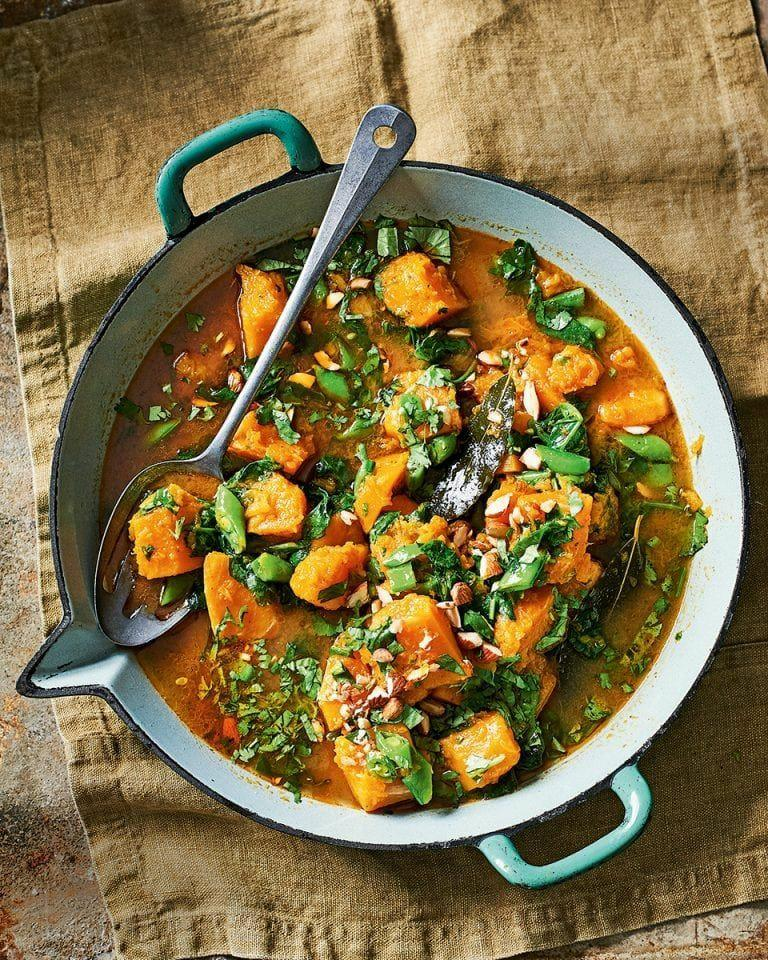AlooGobi: (91, 214, 697, 817)
